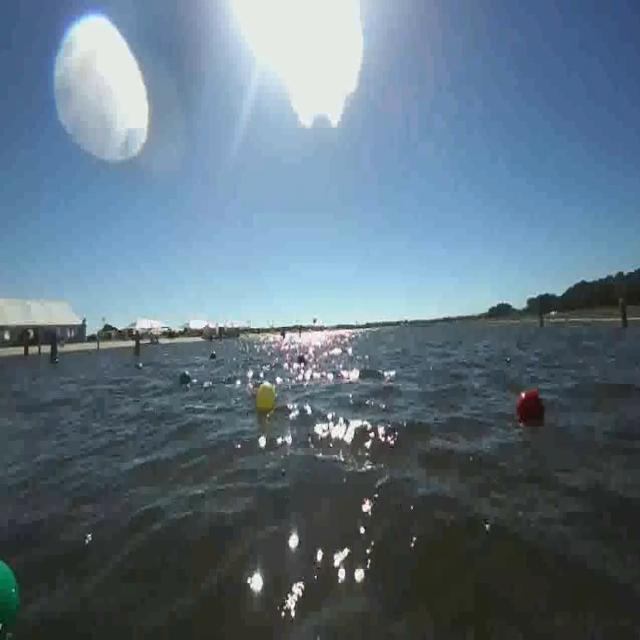green-buoy: (0, 556, 22, 632)
red-buoy: (517, 389, 546, 428)
yellow-buoy: (255, 379, 277, 413)
